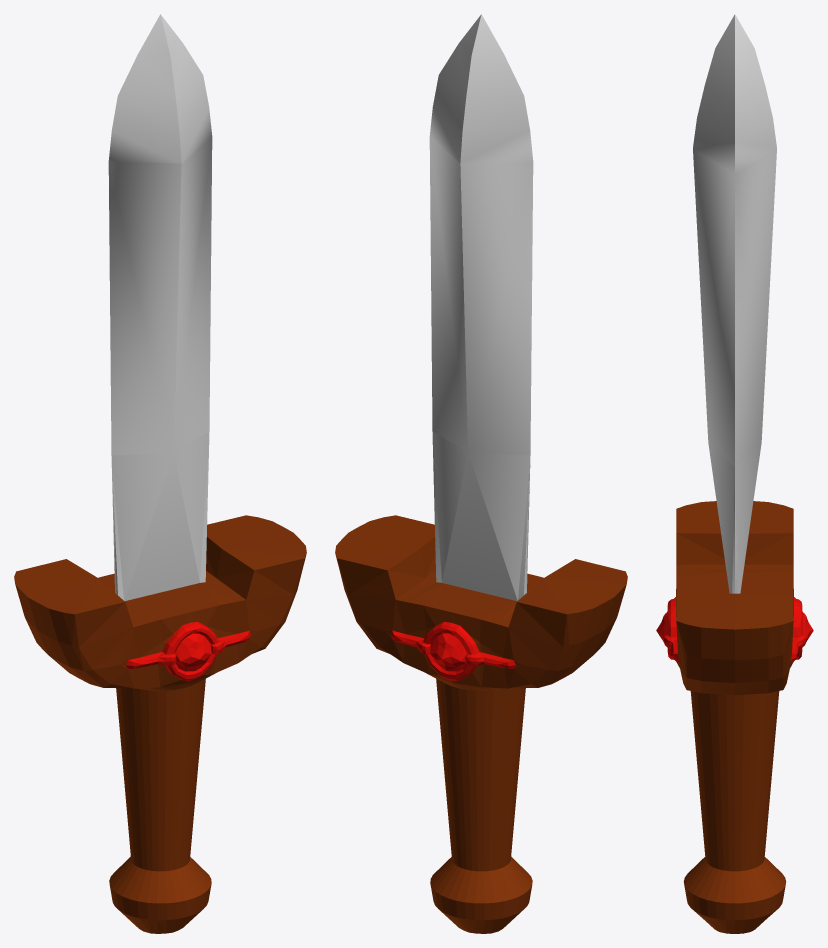
Rendered from KokiriSword.fbx.
3 views of the same model, side by side, from view 1: azimuth 30°, elevation 25°; view 2: azimuth 150°, elevation 25°; view 3: azimuth 270°, elevation 25° (orthographic).
Visible parts, largest first — view 1: Sword; view 2: Sword; view 3: Sword.
Part boxes in pixels (left/top/right/bottom): Sword: left=14, top=14, right=306, bottom=933; Sword: left=335, top=14, right=627, bottom=933; Sword: left=656, top=14, right=813, bottom=933.
Bounding box in the file's own units: 0.5598 × 1.83 × 0.2881.
